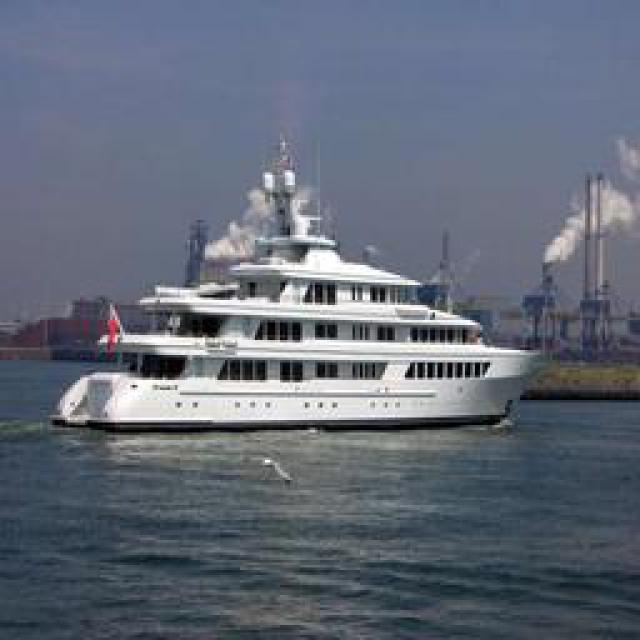Ship: (52, 119, 542, 434)
